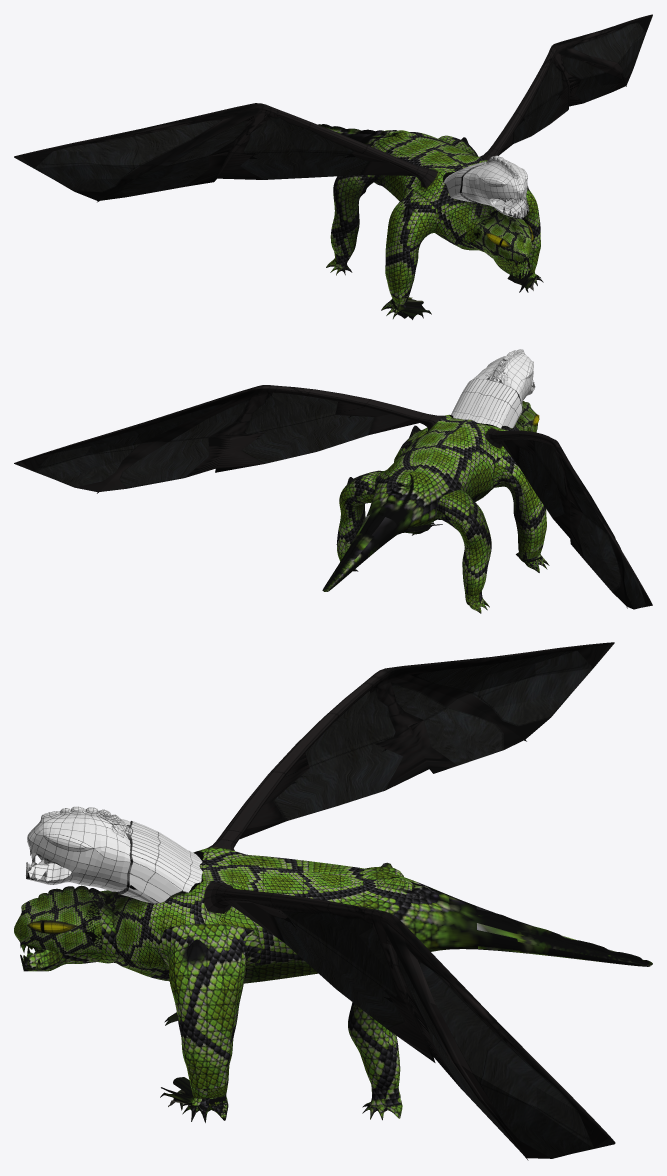
Rendered from monster_000034.obj.
The picture shows the model from 3 angles, top to bottom: view 1: azimuth 30°, elevation 25°; view 2: azimuth 150°, elevation 25°; view 3: azimuth 270°, elevation 25°; orthographic projection. The views are drawn at different scales.
Parts seen in each view (by area): view 1: body_Cube, secondHead_Cube.002; view 2: body_Cube, secondHead_Cube.002; view 3: body_Cube, secondHead_Cube.002.
Part boxes in pixels (box(x1,y1,x2,y2)): body_Cube: box(14, 14, 652, 319); secondHead_Cube.002: box(443, 155, 529, 218); body_Cube: box(14, 385, 652, 613); secondHead_Cube.002: box(451, 349, 535, 428); body_Cube: box(14, 642, 652, 1160); secondHead_Cube.002: box(26, 806, 202, 903).
Size of the model in its own units: 9.78 by 2.75 by 5.51.
